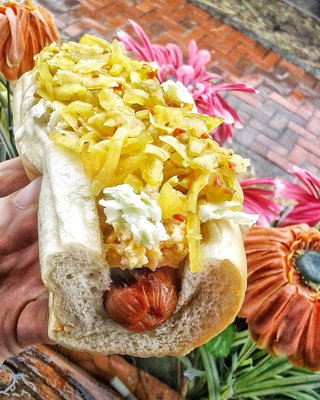burger: (8, 1, 253, 366)
